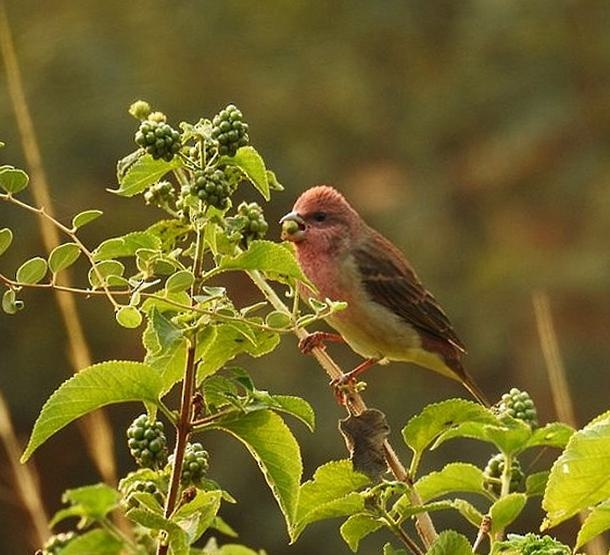rosefinch: (282, 189, 491, 401)
